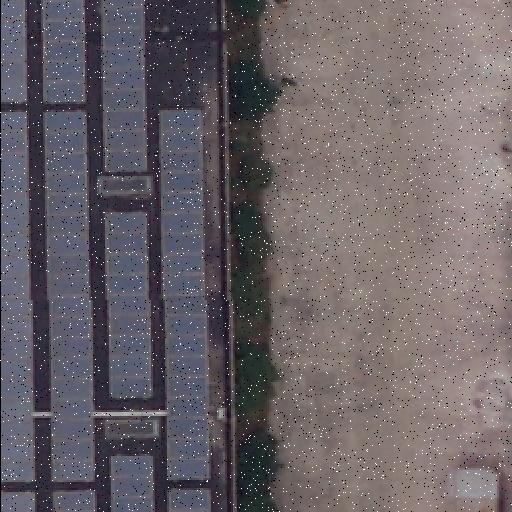solar-panel: (157, 109, 211, 483), (44, 110, 96, 482), (0, 111, 36, 481), (105, 210, 151, 398), (99, 0, 149, 172), (40, 0, 88, 104), (0, 0, 28, 104), (110, 452, 154, 512), (165, 486, 211, 512), (52, 489, 96, 511), (0, 488, 36, 512)
